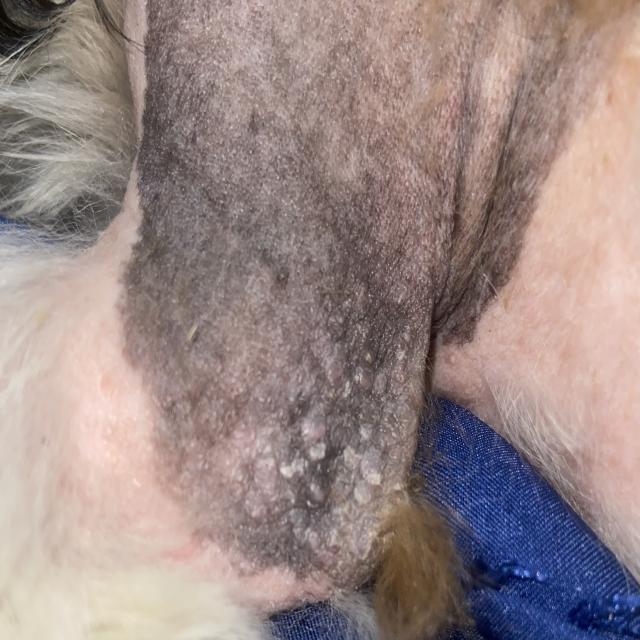demodicosis: (200, 5, 521, 214), (182, 230, 394, 522)
